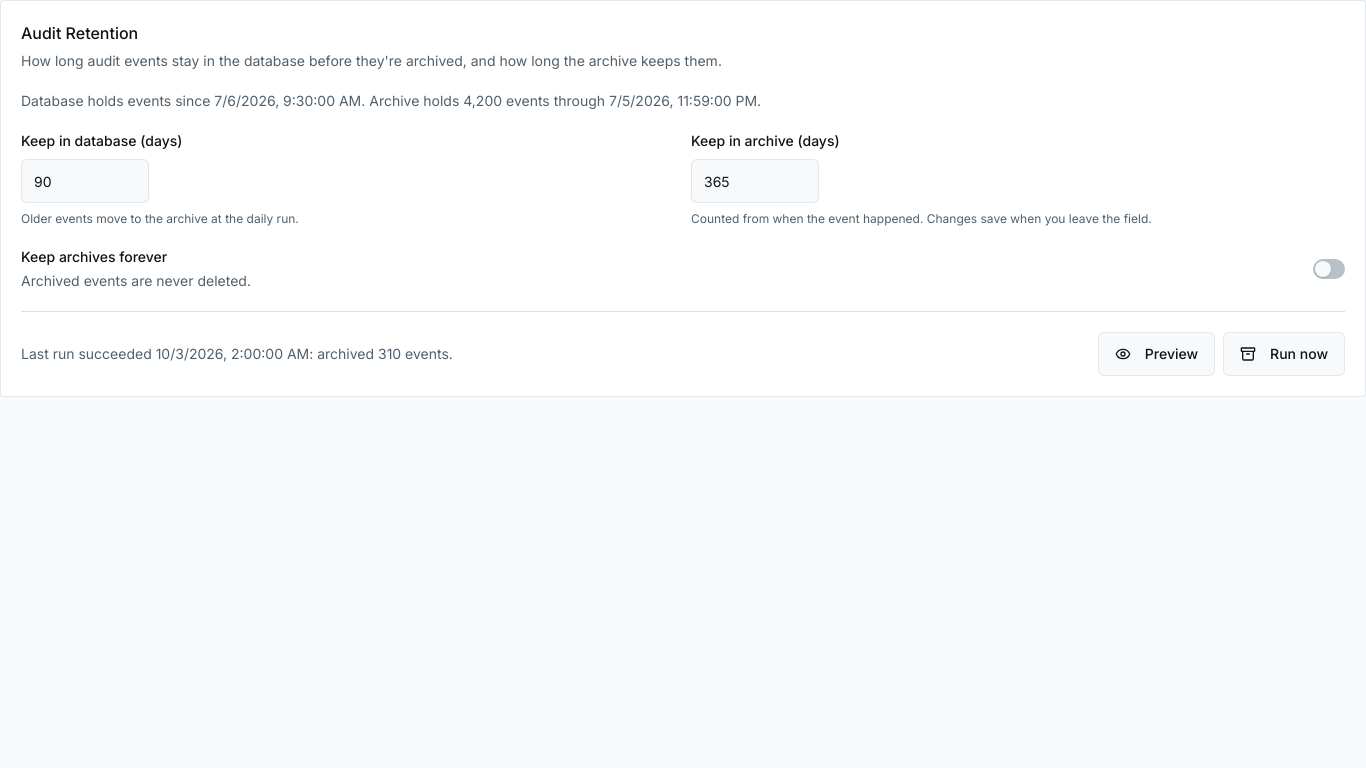
it: AuditRetentionSettings › says when shortening deletes nothing yet
Check: the number field labelled "Keep in database (days)" is enabled, box [21,159,149,203]
Replace the text in the number field labelled "Keep in archive (days)" with "180" at (755, 181), box [691,159,819,203]
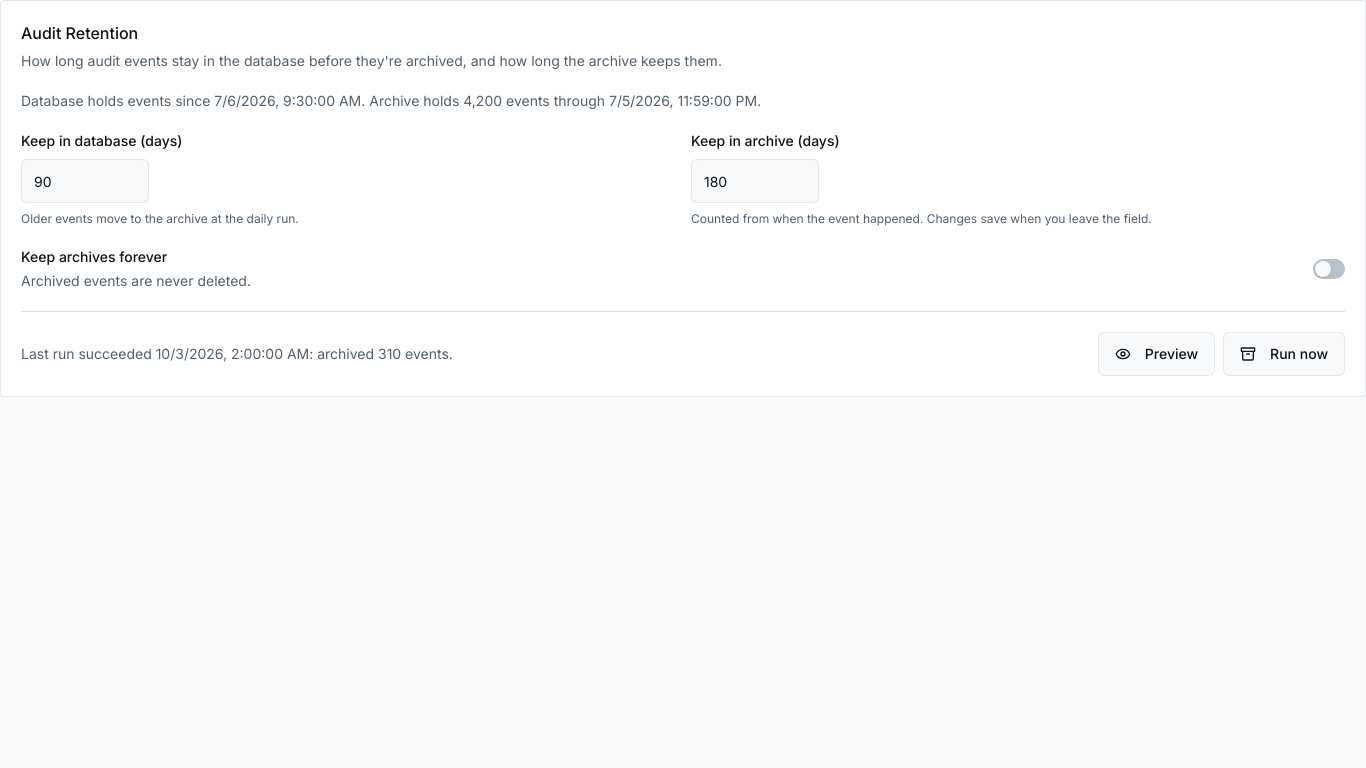
Leave the number field labelled "Keep in archive (days)", box [691,159,819,203]
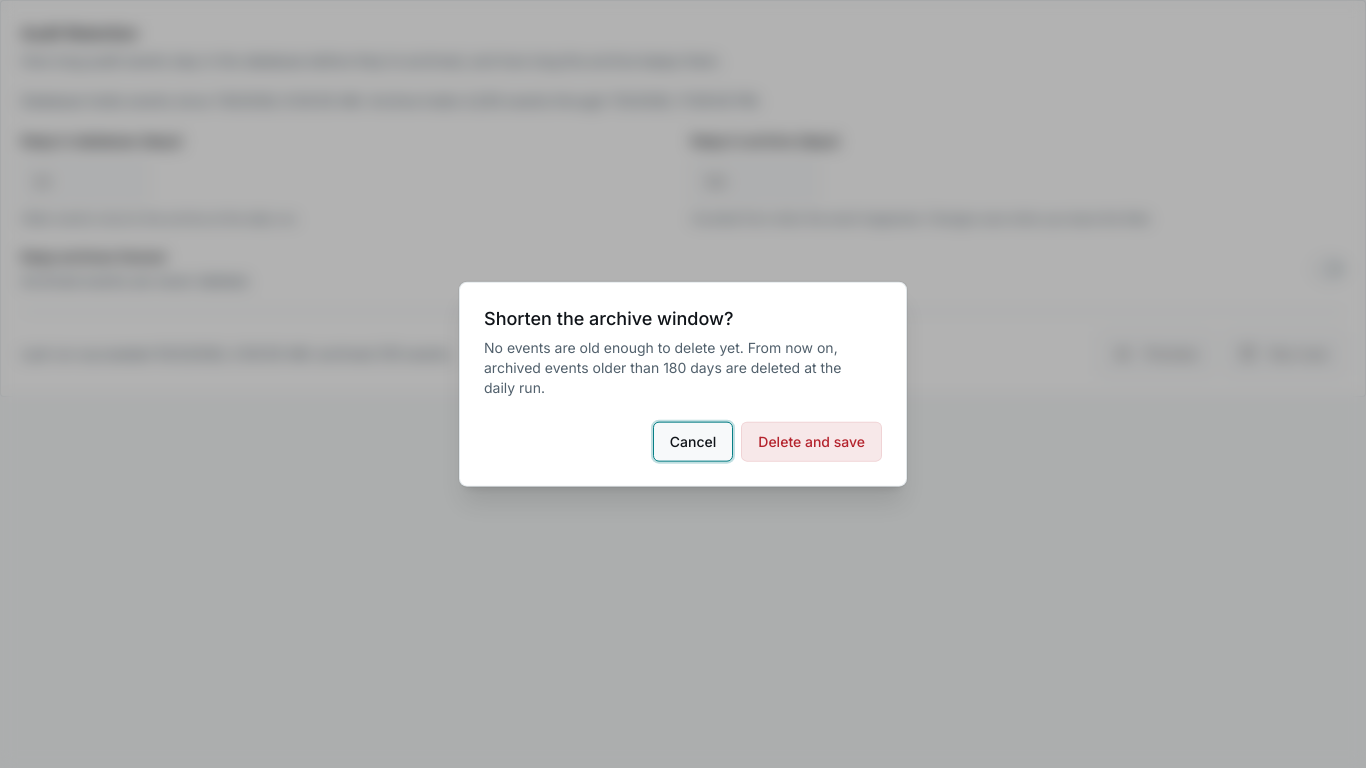
Check: the dialog shows "No events are old enough to delete yet. From now on, archived events older than 180 days are deleted at the daily run.", box [484,338,842,395]
